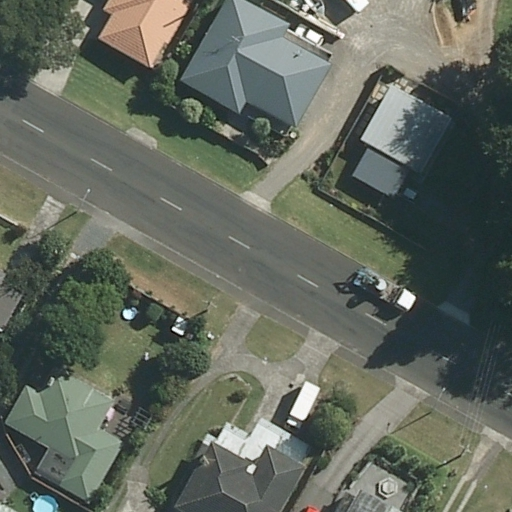DT: (455, 443, 474, 463)
